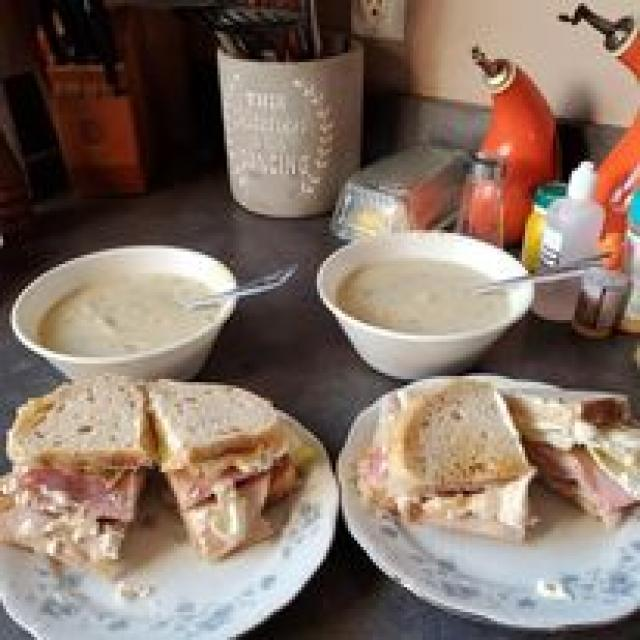Sandwich: (9, 354, 637, 562)
